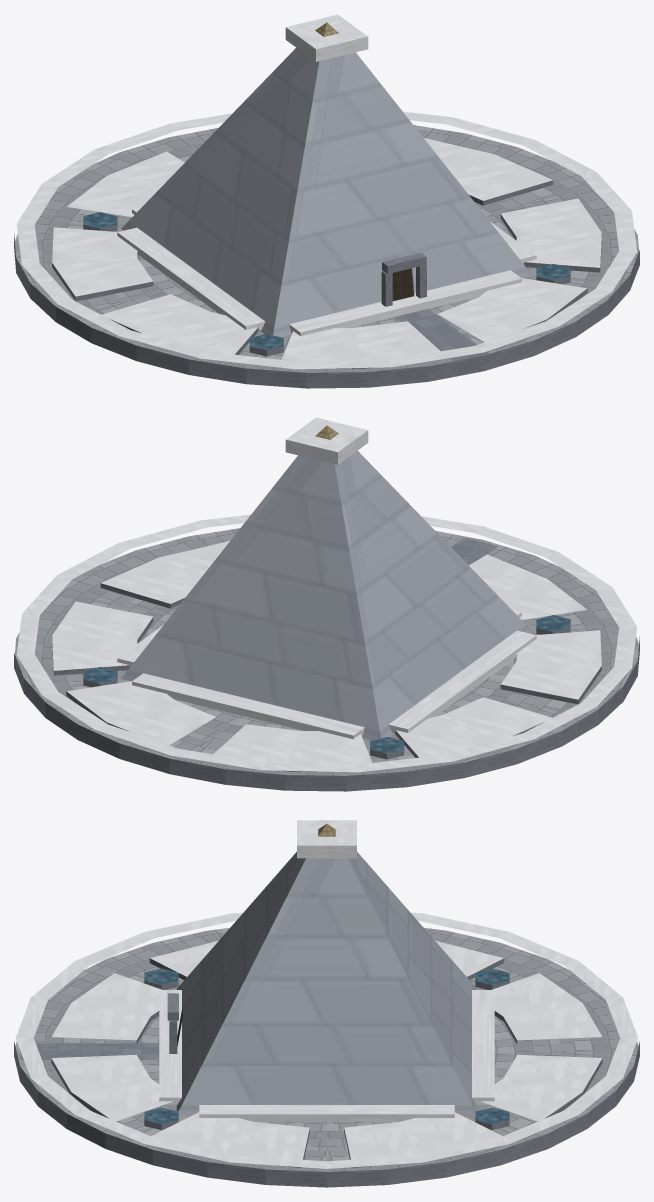
Rendered from pyramid_large_lod1.glb.
The picture shows the model from 3 angles, top to bottom: view 1: azimuth 30°, elevation 25°; view 2: azimuth 150°, elevation 25°; view 3: azimuth 270°, elevation 25°; orthographic projection.
Parts seen in each view (by area): view 1: pyramid_large_lod1; view 2: pyramid_large_lod1; view 3: pyramid_large_lod1.
Part boxes in pixels (box(x1,y1,x2,y2)): pyramid_large_lod1: box(14, 14, 639, 388); pyramid_large_lod1: box(14, 417, 639, 791); pyramid_large_lod1: box(14, 820, 639, 1187).
Size of the model in its own units: 1.89 by 0.779 by 1.9.
1 material, 1 textured.
